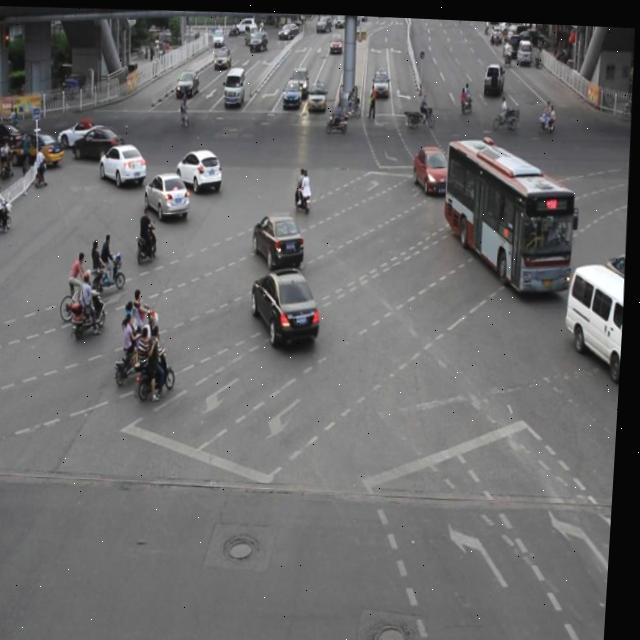car: (253, 260, 325, 344), (253, 207, 308, 266), (145, 166, 193, 219), (99, 139, 150, 185), (176, 144, 225, 191), (73, 121, 128, 161), (412, 140, 454, 191), (58, 116, 104, 147)
truck: (564, 253, 629, 376)
van: (441, 133, 579, 290)
